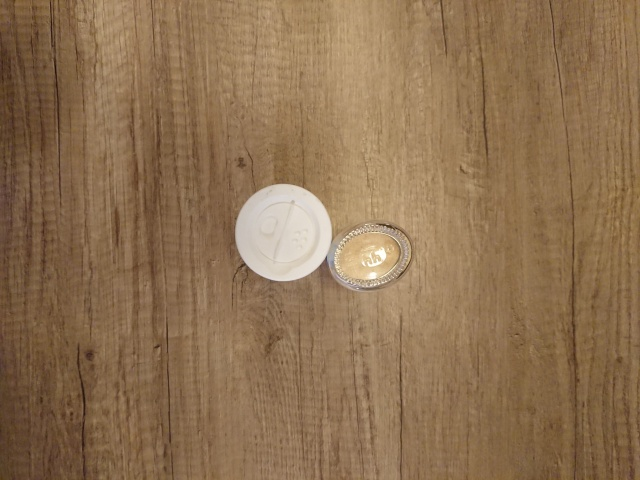Kotanyi Garlic Granules 70g: (324, 217, 417, 294)
Solana Pag Fine Sea Salt 250g: (233, 181, 335, 283)
